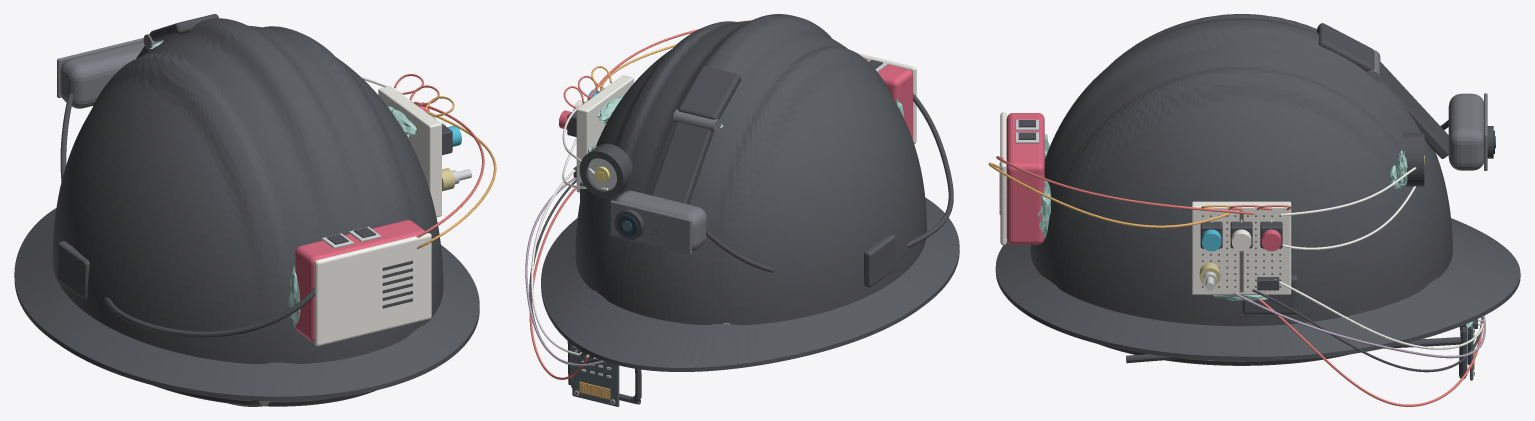
File: saqr_prototype_1.glb
3 renders of one model, left to right at view 1: azimuth 30°, elevation 25°; view 2: azimuth 150°, elevation 25°; view 3: azimuth 270°, elevation 25°, orthographic. The views are drawn at different scales.
Parts seen in each view (by area): view 1: 01_Helmet_Hollow_Outer_Shell, 01_Helmet_Thin_Full_Brim, 02_Raspberry_Pi_5_White_Lid, 02_Raspberry_Pi_5_Red_Case, 04_Logitech_Webcam_Body, 03_Right_Mini_Breadboard, 08_Loose_Wire_Webcam_USB, 01_Helmet_Existing_Side_Lug_-1, 01_Helmet_Interior_Headband, 04_Webcam_Stock_Clip_Upper, 08_Loose_Wire_Pi_Breadboard_Red, 08_Loose_Wire_Pi_Breadboard_Orange (+2 smaller); view 2: 01_Helmet_Hollow_Outer_Shell, 01_Helmet_Thin_Full_Brim, 04_Webcam_Stock_Clip_Vertical, 04_Logitech_Webcam_Front, 04_Webcam_Stock_Clip_Upper, 03_Right_Mini_Breadboard, 04_Logitech_Webcam_Body, 07_Besomi_OLED_Exposed_PCB, 05_Torch_LED_Black_Plastic_Cup, 08_Loose_Wire_Webcam_USB, 01_Helmet_Existing_Side_Lug_-1, 02_Raspberry_Pi_5_Red_Case (+9 smaller); view 3: 01_Helmet_Hollow_Outer_Shell, 01_Helmet_Thin_Full_Brim, 03_Right_Mini_Breadboard, 02_Raspberry_Pi_5_Red_Case, 04_Logitech_Webcam_Body, 04_Webcam_Stock_Clip_Vertical, 04_Webcam_Stock_Clip_Upper, 05_Torch_LED_Black_Plastic_Cup, 01_Helmet_Existing_Side_Lug_1, 02_Raspberry_Pi_5_White_Lid, 08_Loose_Wire_OLED_Purple, 08_Loose_Wire_OLED_Red (+7 smaller).
Part boxes in pixels (<box>): 01_Helmet_Hollow_Outer_Shell: <box>52,18,443,364</box>; 01_Helmet_Thin_Full_Brim: <box>14,208,479,401</box>; 02_Raspberry_Pi_5_White_Lid: <box>314,233,431,346</box>; 02_Raspberry_Pi_5_Red_Case: <box>295,220,424,342</box>; 04_Logitech_Webcam_Body: <box>60,41,144,108</box>; 03_Right_Mini_Breadboard: <box>378,86,441,217</box>; 08_Loose_Wire_Webcam_USB: <box>60,93,314,337</box>; 01_Helmet_Existing_Side_Lug_-1: <box>57,241,89,299</box>; 01_Helmet_Interior_Headband: <box>154,385,375,406</box>; 04_Webcam_Stock_Clip_Upper: <box>149,14,218,41</box>; 08_Loose_Wire_Pi_Breadboard_Red: <box>414,101,484,237</box>; 08_Loose_Wire_Pi_Breadboard_Orange: <box>417,111,496,249</box>; 01_Helmet_Hollow_Outer_Shell: <box>575,14,926,325</box>; 01_Helmet_Thin_Full_Brim: <box>541,197,959,371</box>; 04_Webcam_Stock_Clip_Vertical: <box>651,122,713,204</box>; 04_Logitech_Webcam_Front: <box>610,200,691,254</box>; 04_Webcam_Stock_Clip_Upper: <box>678,66,741,119</box>; 03_Right_Mini_Breadboard: <box>576,75,633,192</box>; 04_Logitech_Webcam_Body: <box>615,190,706,250</box>; 07_Besomi_OLED_Exposed_PCB: <box>572,346,619,406</box>; 05_Torch_LED_Black_Plastic_Cup: <box>579,143,632,198</box>; 08_Loose_Wire_Webcam_USB: <box>706,93,953,272</box>; 01_Helmet_Existing_Side_Lug_-1: <box>864,234,895,287</box>; 02_Raspberry_Pi_5_Red_Case: <box>865,59,912,139</box>; 01_Helmet_Hollow_Outer_Shell: <box>1030,14,1452,326</box>; 01_Helmet_Thin_Full_Brim: <box>995,218,1520,360</box>; 03_Right_Mini_Breadboard: <box>1192,201,1291,294</box>; 02_Raspberry_Pi_5_Red_Case: <box>1006,113,1044,244</box>; 04_Logitech_Webcam_Body: <box>1448,93,1483,170</box>; 04_Webcam_Stock_Clip_Vertical: <box>1380,62,1448,158</box>; 04_Webcam_Stock_Clip_Upper: <box>1317,23,1374,71</box>; 05_Torch_LED_Black_Plastic_Cup: <box>1402,133,1424,186</box>; 01_Helmet_Existing_Side_Lug_1: <box>1242,275,1297,314</box>; 02_Raspberry_Pi_5_White_Lid: <box>1000,112,1006,245</box>; 08_Loose_Wire_OLED_Purple: <box>1233,292,1485,358</box>; 08_Loose_Wire_OLED_Red: <box>1258,298,1483,406</box>.
Bounding box in the file's own units: 0.277 × 0.2255 × 0.3376.
